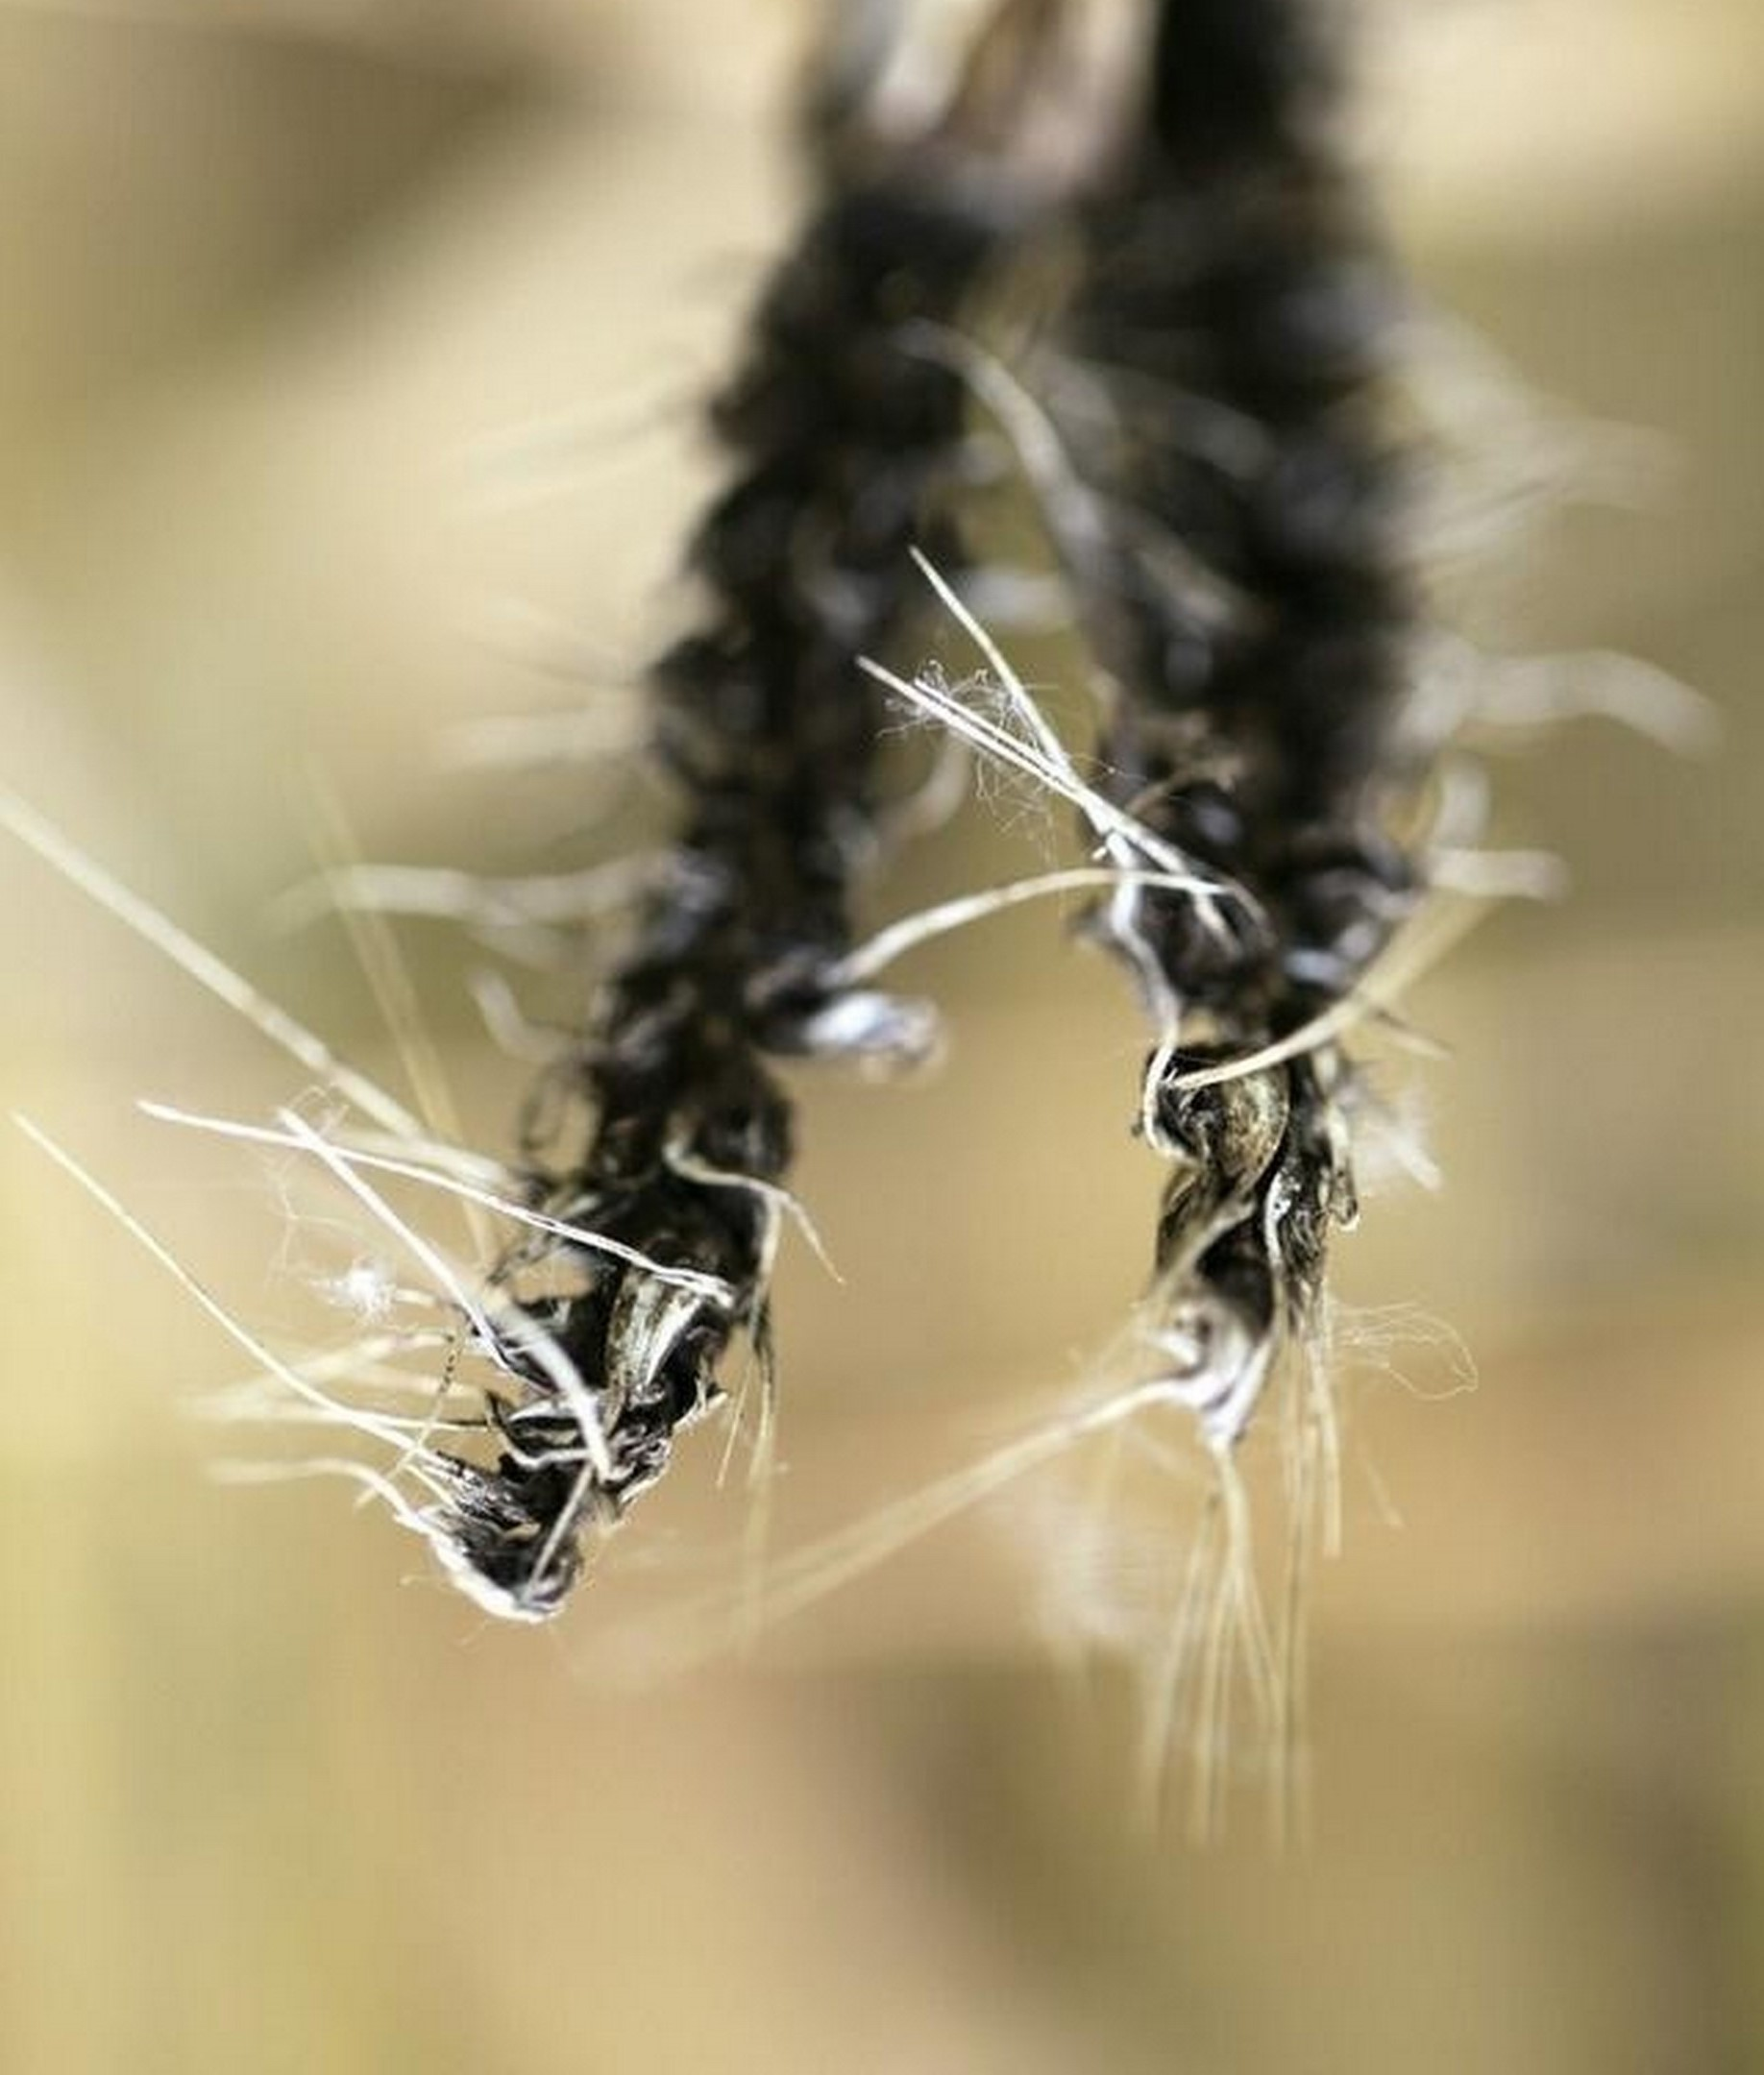Wheat Loose Smut: (369, 128, 1479, 1660)
